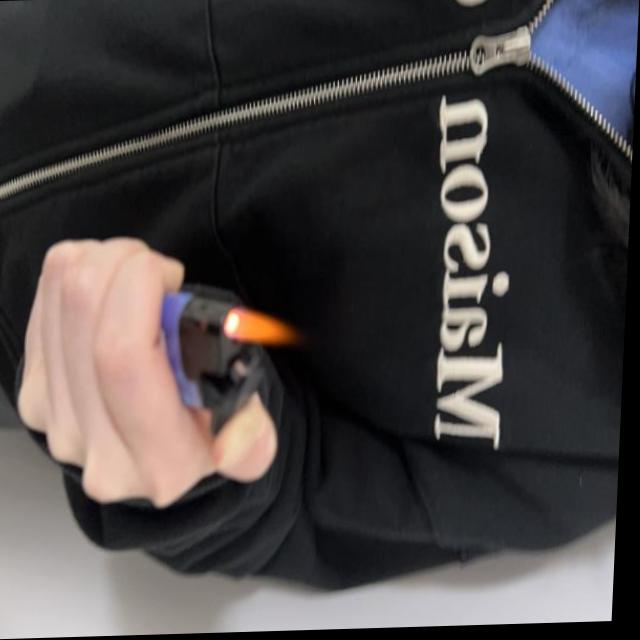Fire: (223, 302, 308, 351)
